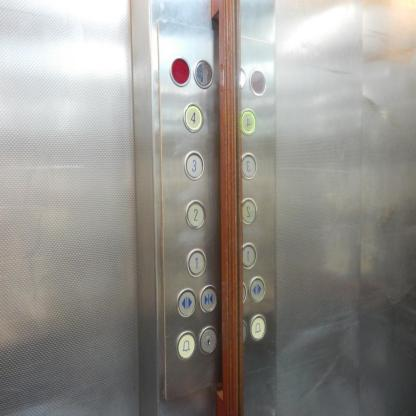1: (184, 246, 208, 277)
2: (183, 198, 207, 228)
3: (182, 149, 206, 180)
4: (181, 100, 205, 132)
alarm: (174, 329, 196, 359), (248, 311, 267, 340)
close: (198, 283, 219, 314)
empty: (168, 55, 192, 86), (246, 65, 270, 96)
keyhole: (197, 323, 218, 354)
open: (174, 286, 197, 316), (246, 274, 268, 304)
speaker: (191, 57, 215, 88)
unknown: (237, 239, 259, 269), (236, 196, 258, 226), (237, 148, 259, 178), (237, 107, 259, 136)
